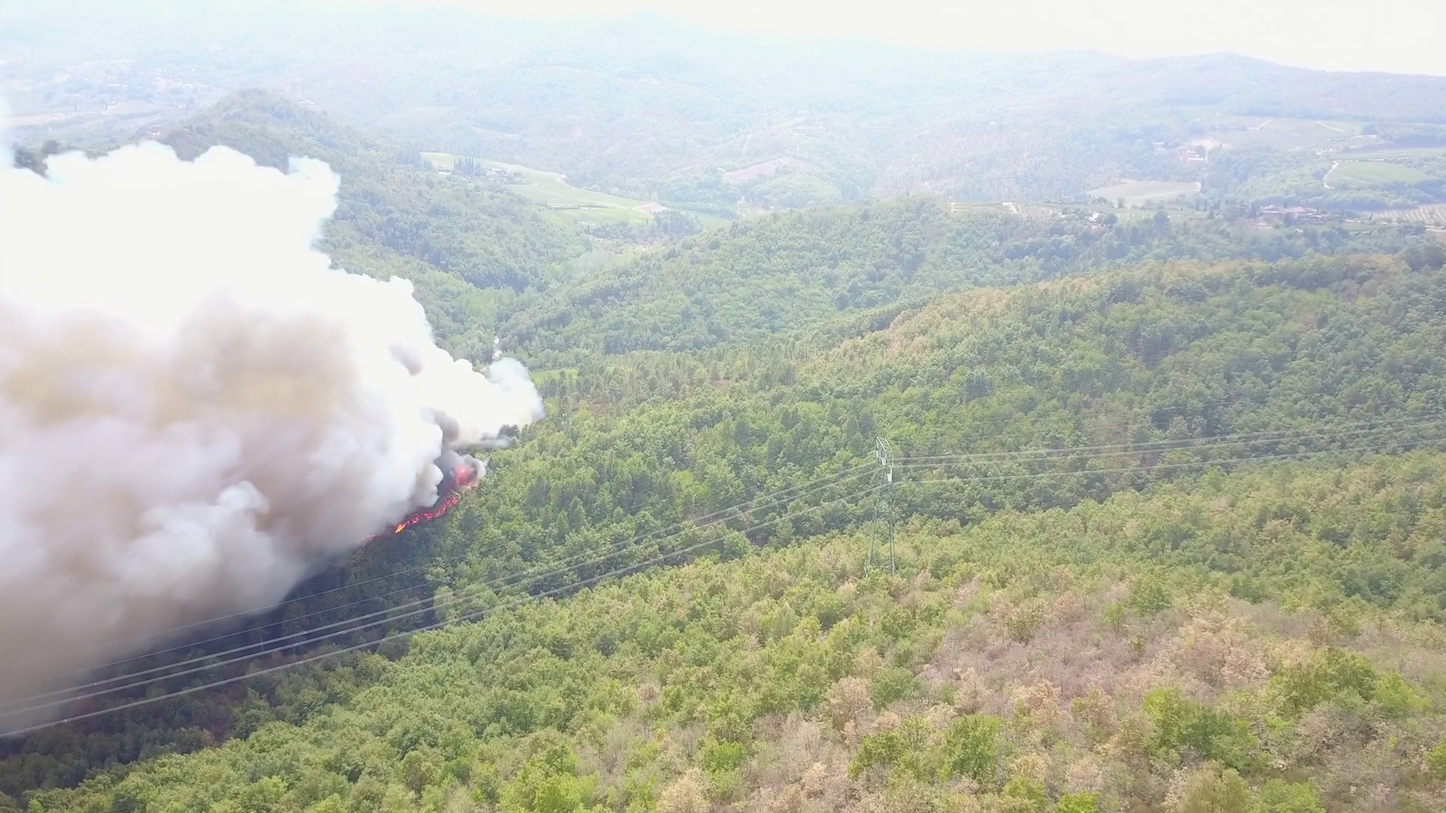forest_fire: (368, 457, 480, 540)
